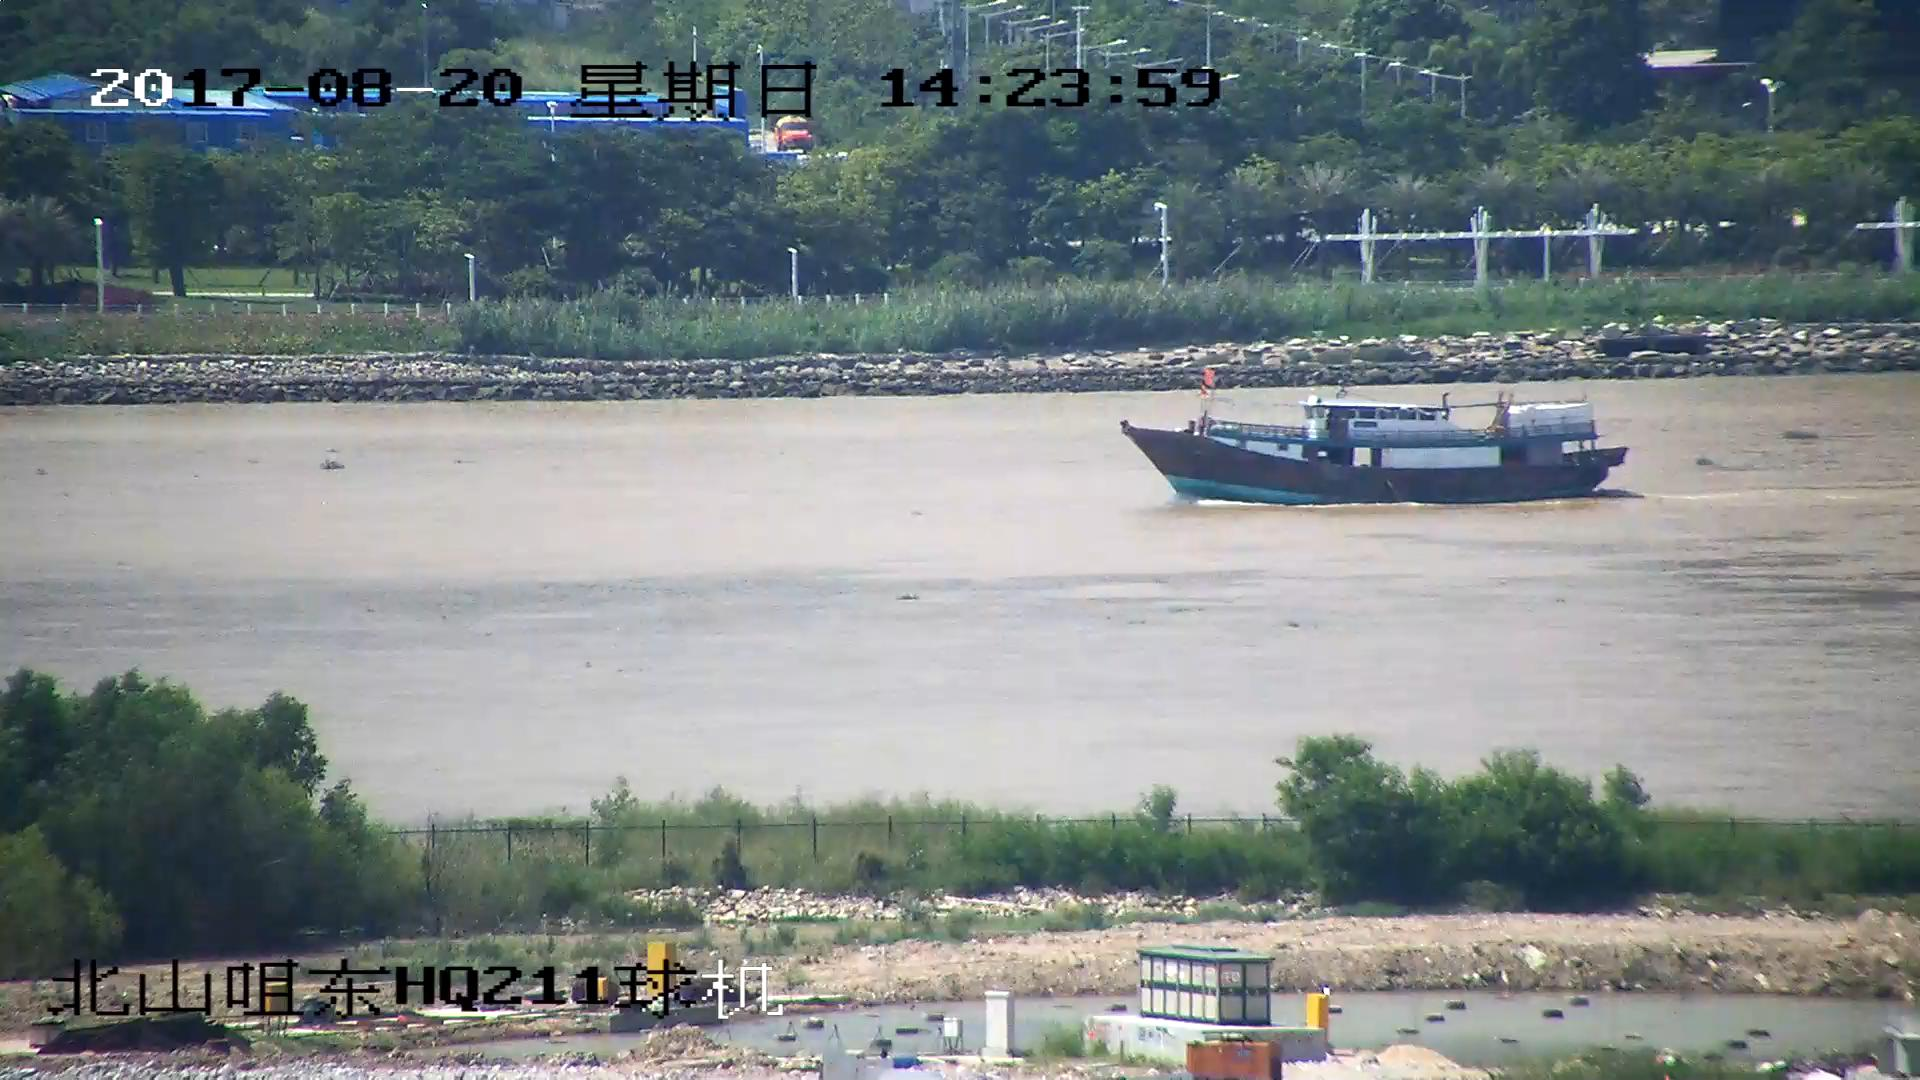fishing boat: (1123, 385, 1629, 508)
